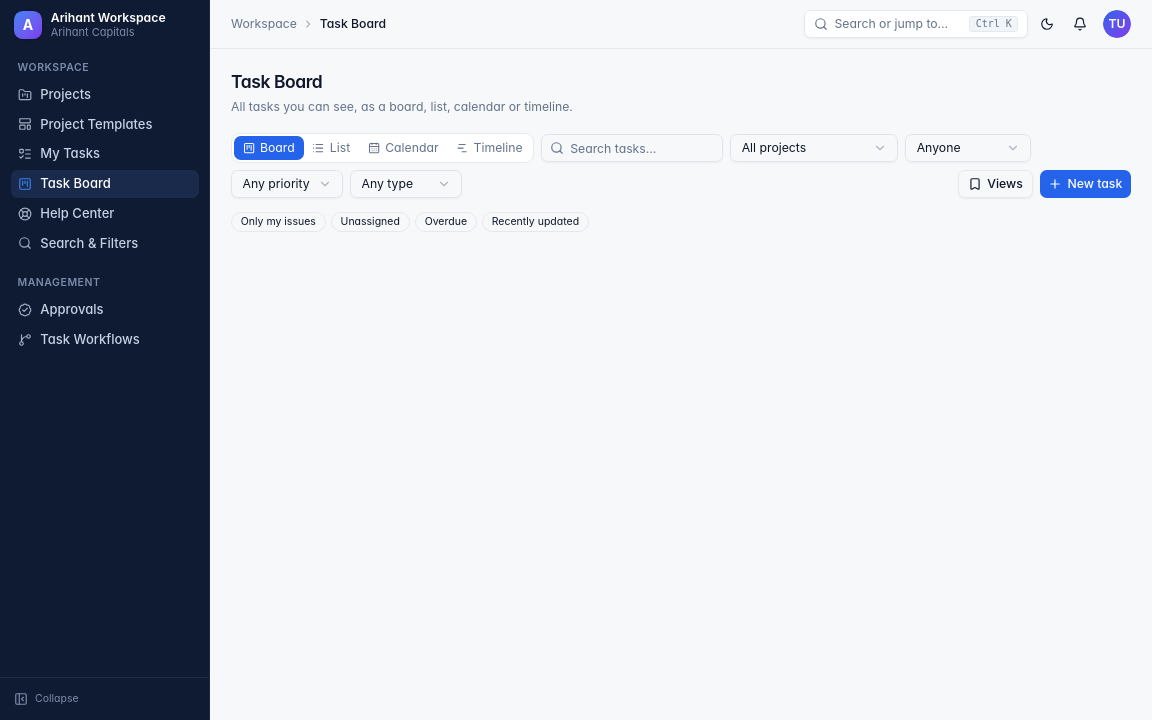
Test: Duplicate check › warns about similar tasks while typing a new task title
The image size is (1152, 720).
Click the button "New task" at (1085, 184), box [1040,170,1131,198]
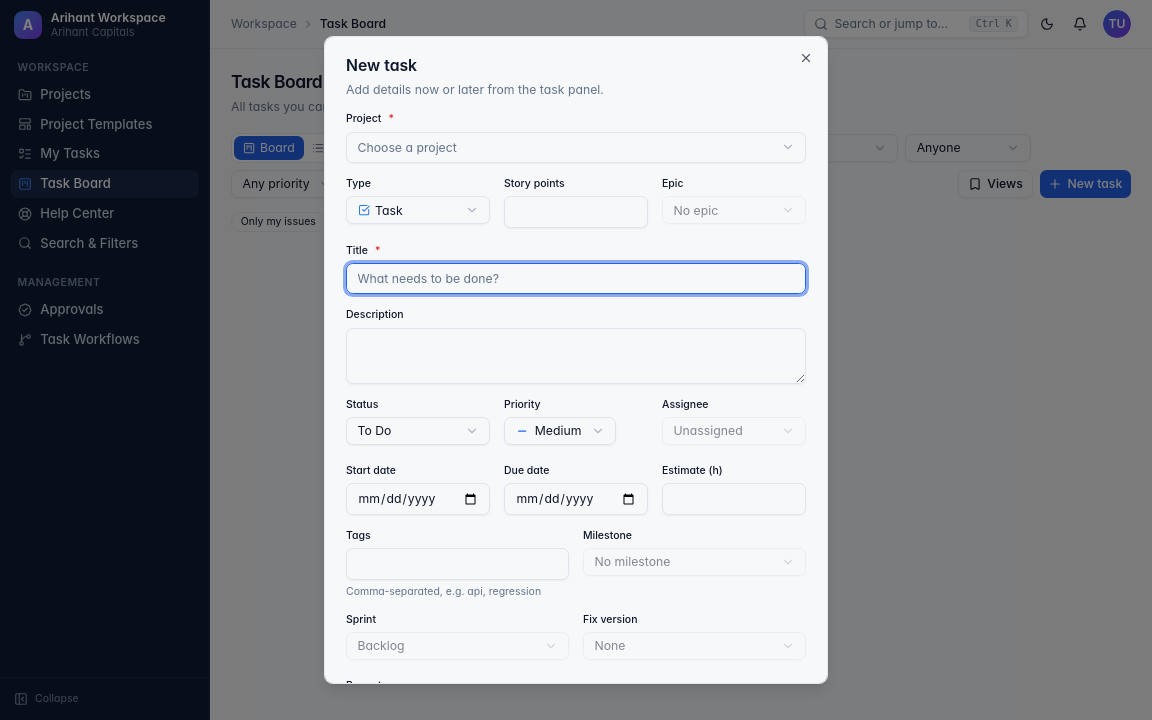
Click the dropdown labelled "Choose a project" at (407, 147), box [346,132,806,163]
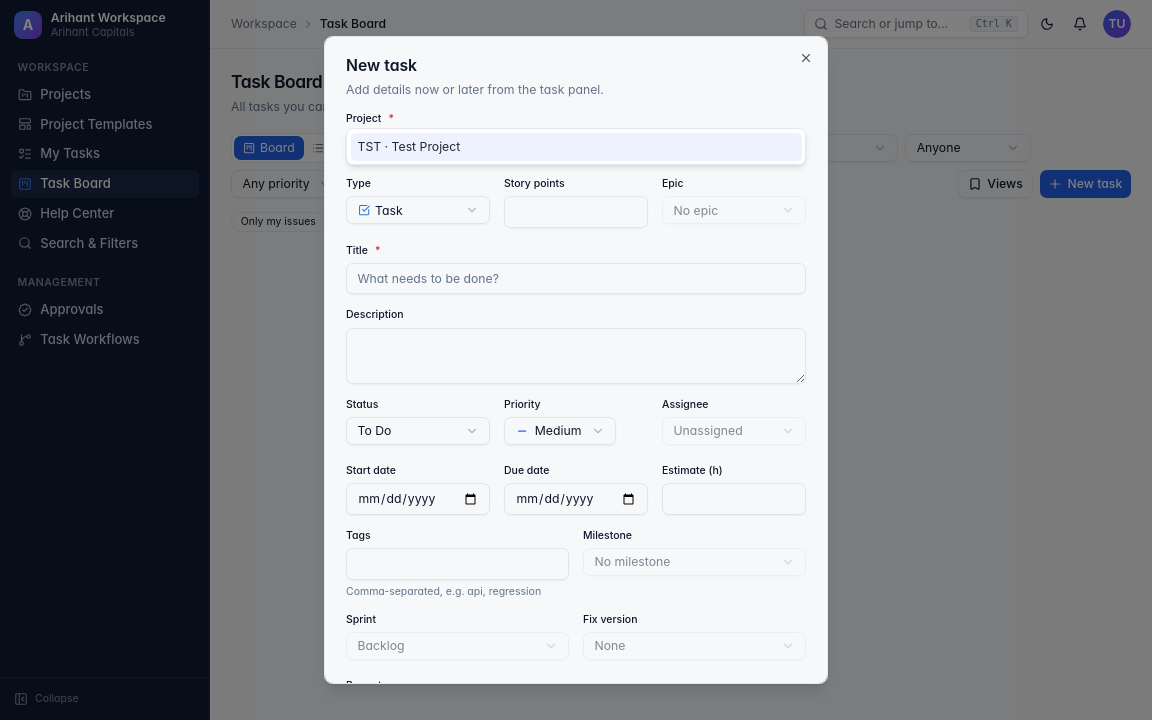
Click the option "TST · Test Project" at (426, 146), box [350,133,802,161]
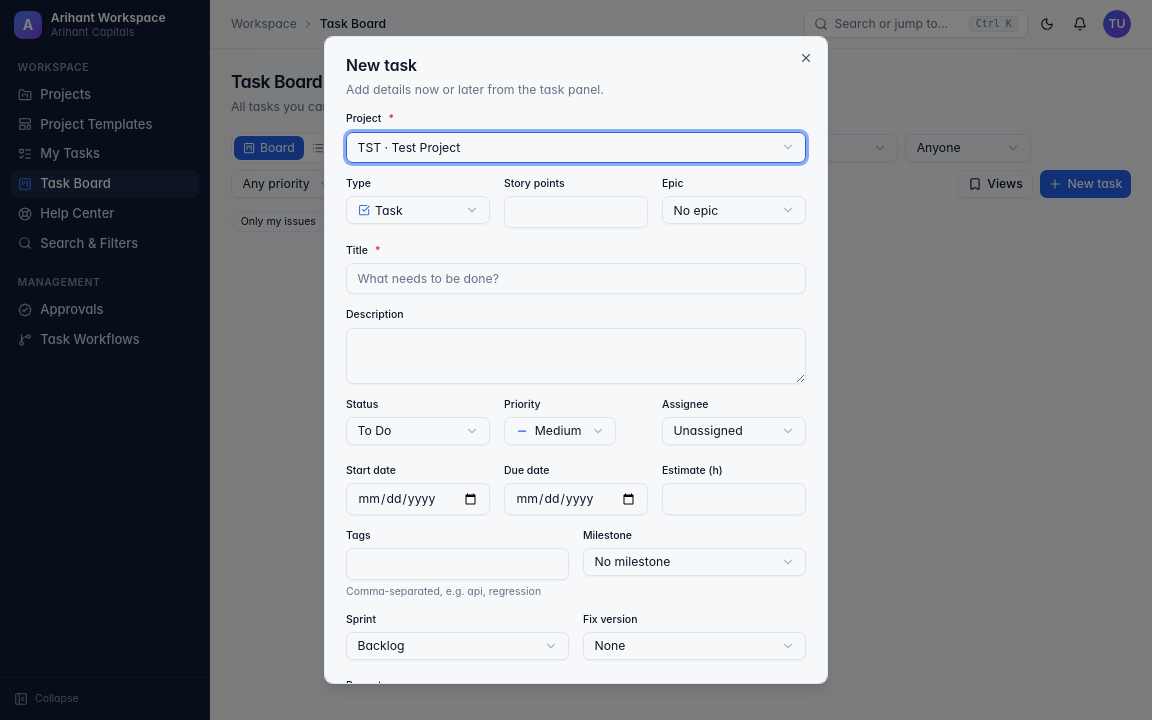
Type "Login bug fix for Safari" into the field labelled "Title *" at (576, 279), box [346,263,806,294]
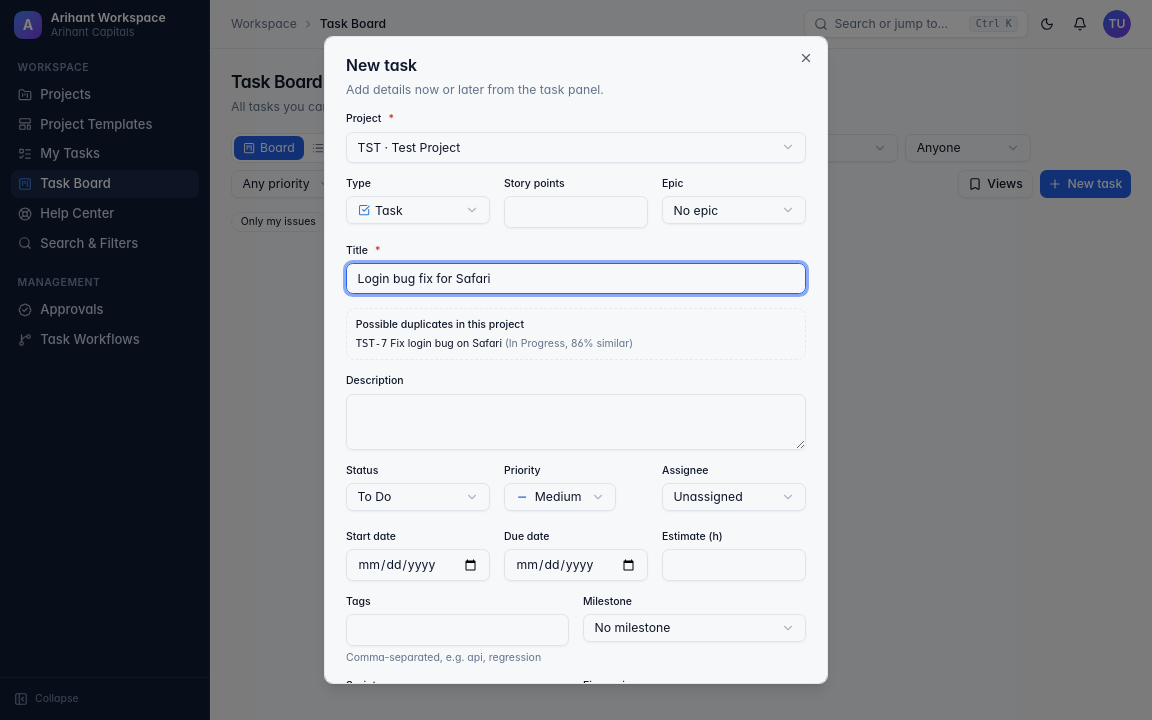
Now the message "Possible duplicates" shows "TST-7 Fix login bug on Safari (In Progress, 86% similar)", box [346,308,806,360]
